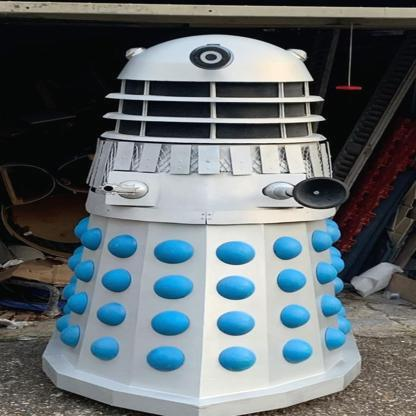dalek: (35, 21, 364, 416)
